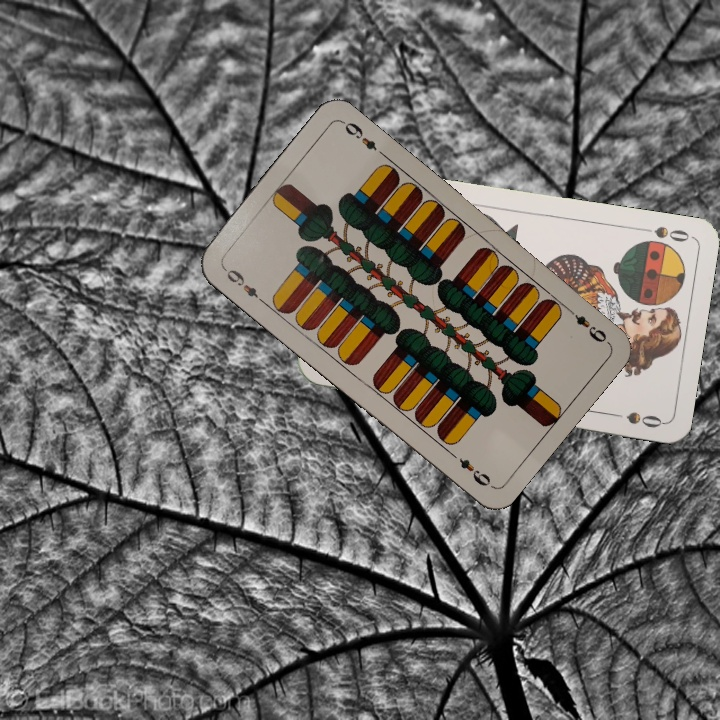E9: (219, 263, 268, 307), (562, 302, 610, 346)
SO: (635, 222, 692, 245)
